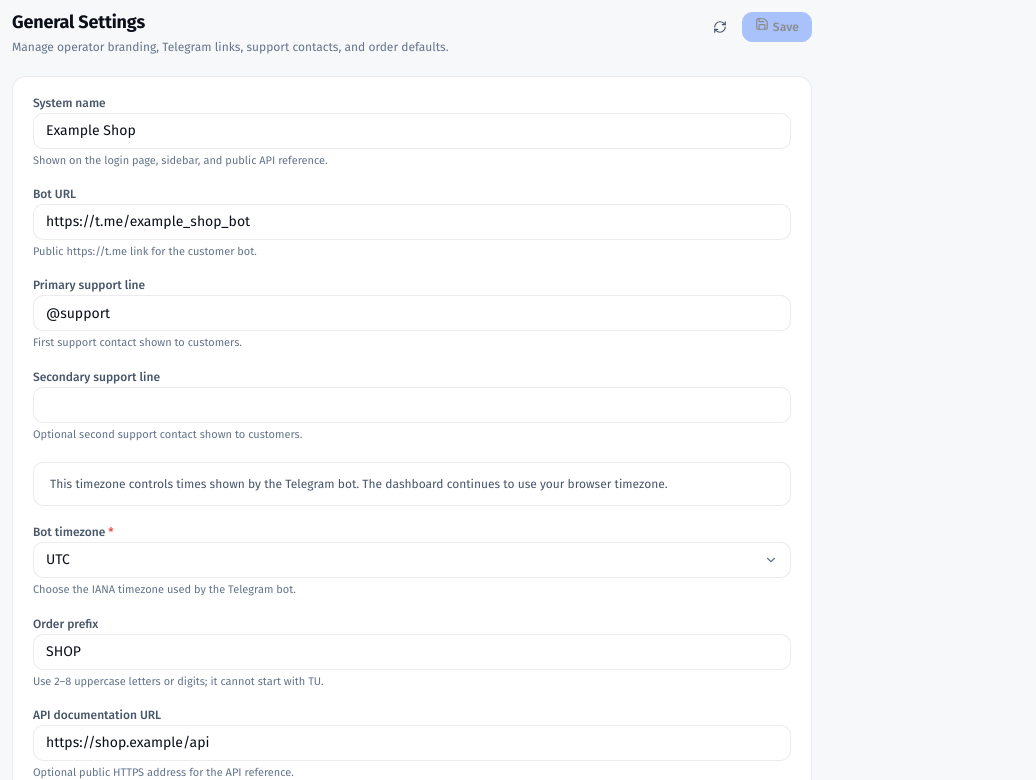
Test: GeneralSettingsPage › loads, edits, and saves the complete normalized settings payload
Replace the text in the field labelled "System name" with " Changed Shop " at (412, 131), box [33,113,791,149]
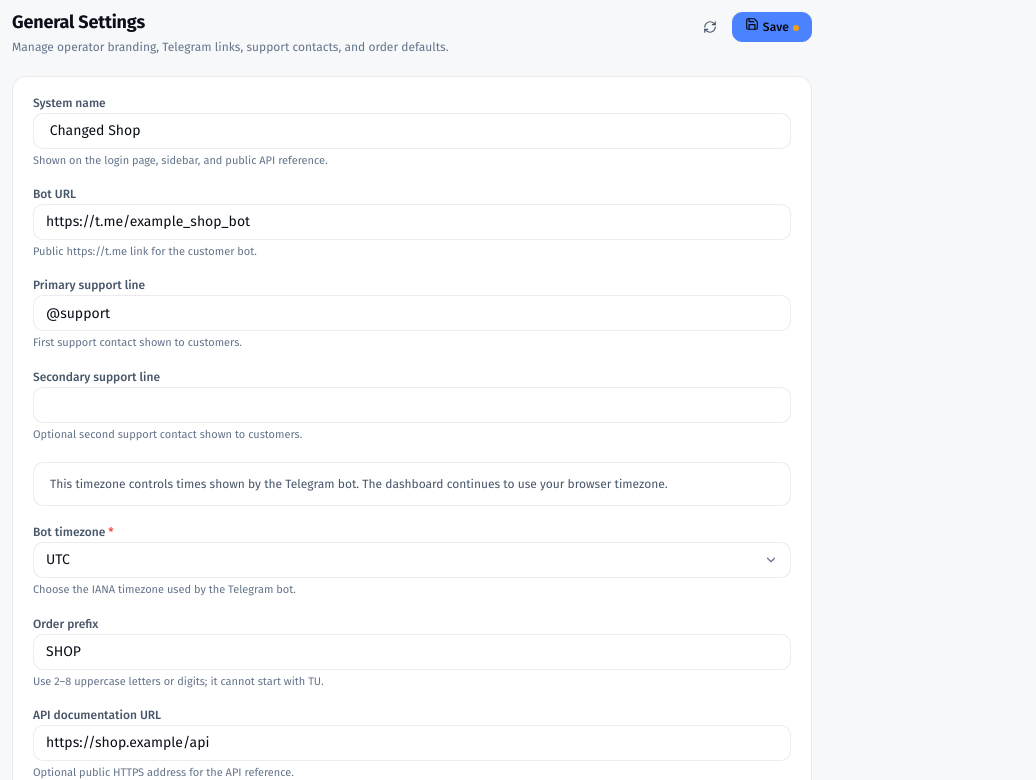
Replace the text in the field labelled "Order prefix" with "shop2" at (412, 652), box [33,634,791,670]
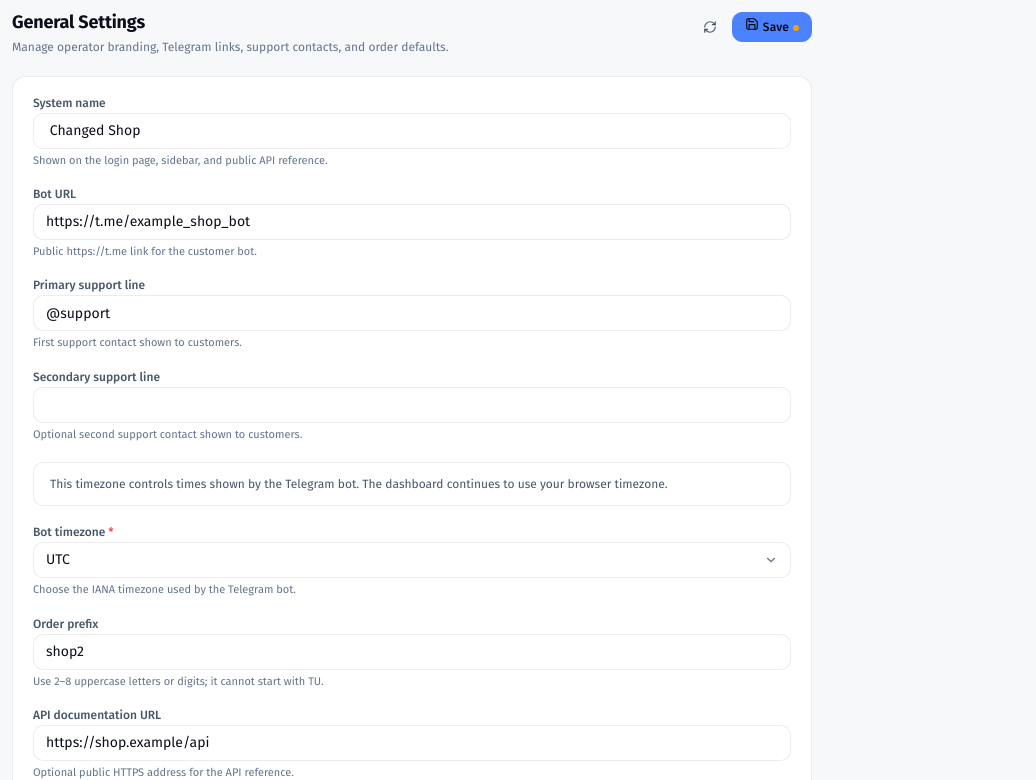
Click the button "Save".
click(772, 27)  # box [732,12,812,42]
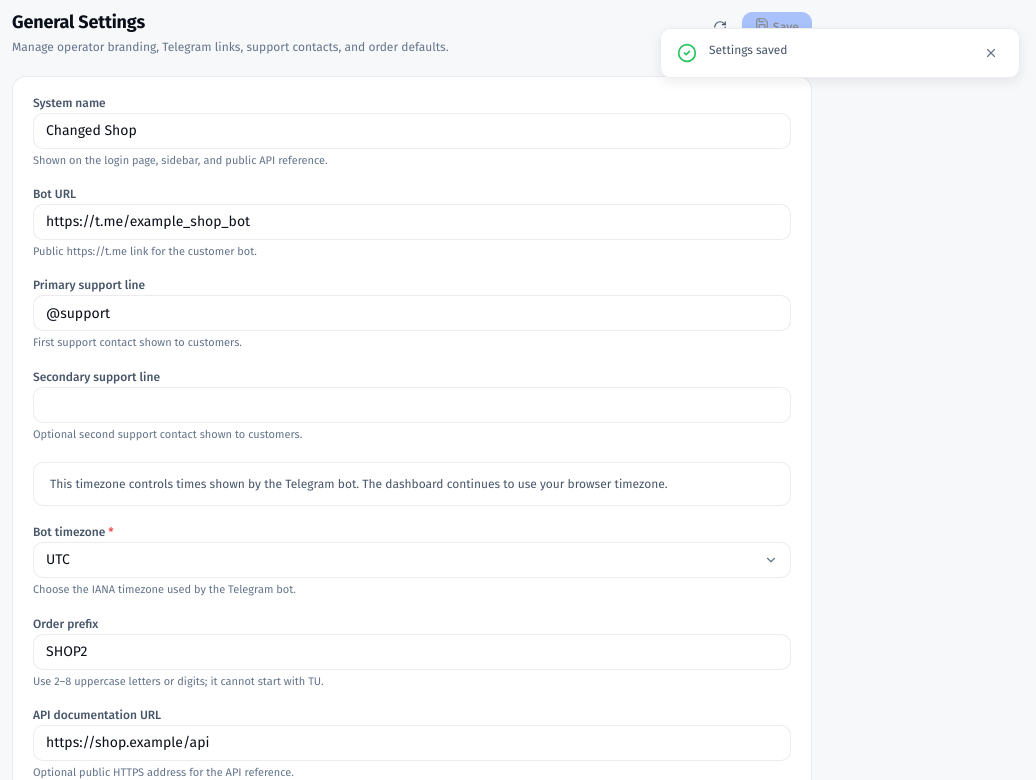
Result: the button "Save" is disabled at [742,12,812,42]
